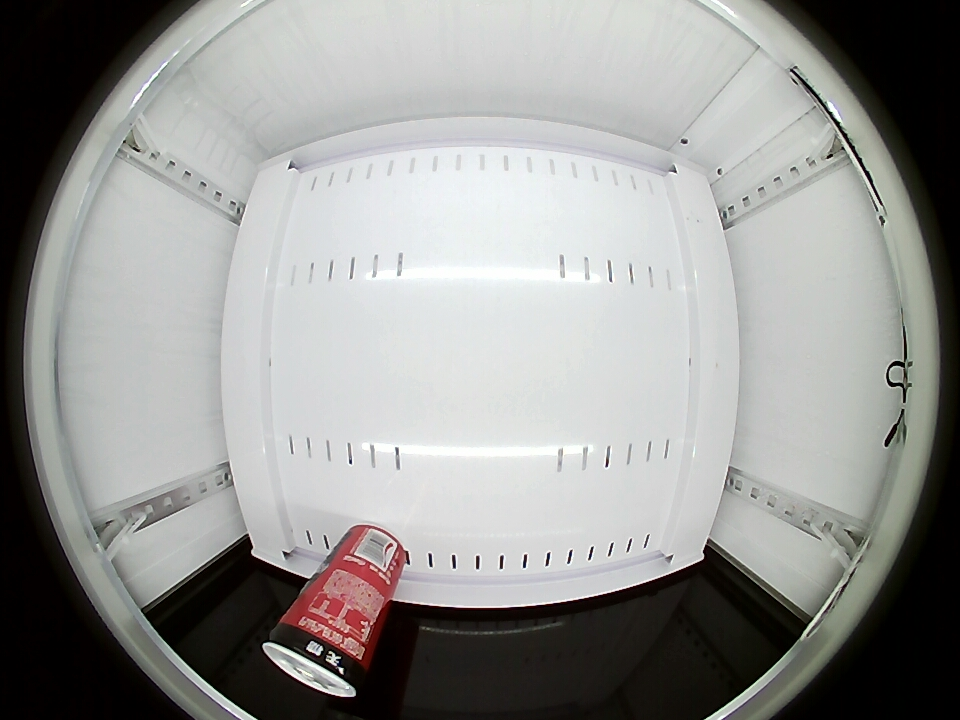lingdukele: (263, 616, 374, 697)
